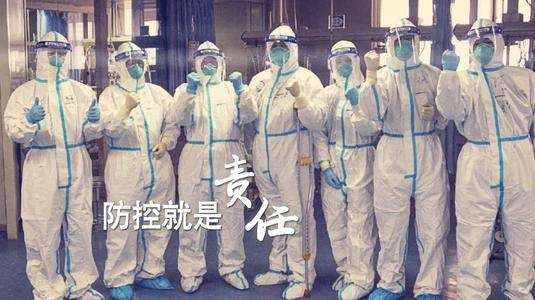correctlyWear: (122, 52, 149, 80), (470, 37, 496, 65), (391, 33, 416, 62), (42, 43, 69, 67), (266, 40, 289, 66), (195, 55, 222, 76), (333, 53, 354, 79)
